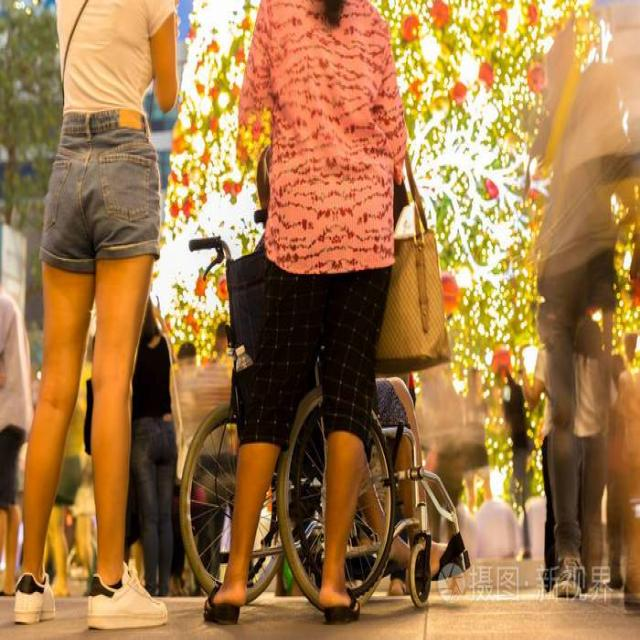wheelchairs: (167, 221, 474, 614)
